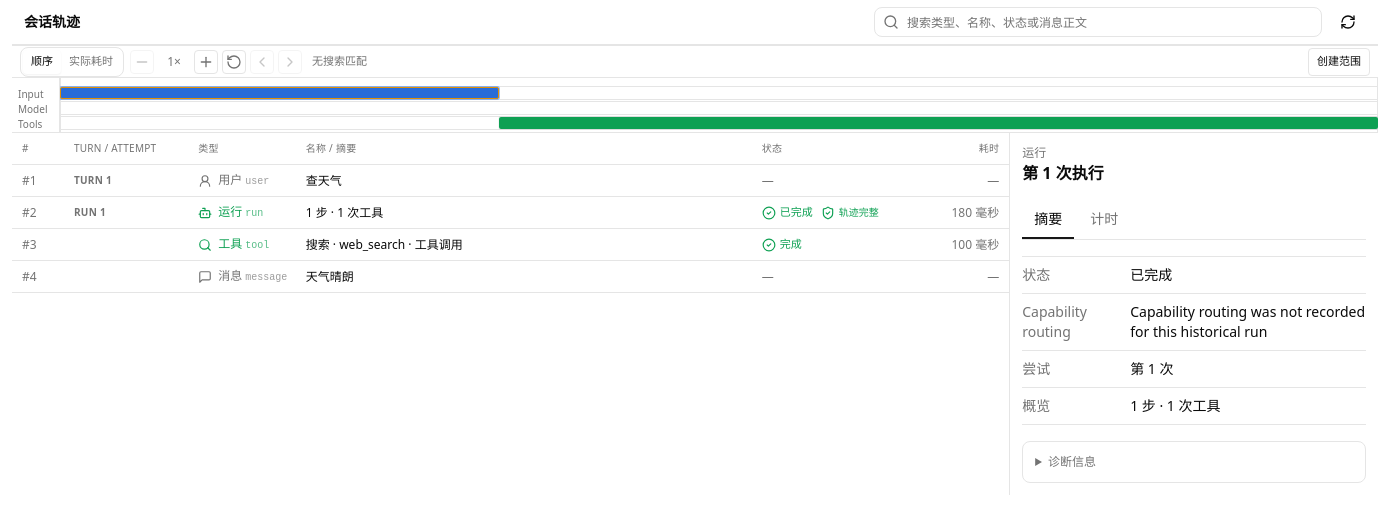
it: TrajectoryTabView › 点击 Turn 级用户节点只更新详情，不卸载当前 Run 快照
Step 1. Click the option "#1 Turn 1 用户 user 查天气 — —" → (93, 180), box [12,165,1009,197]
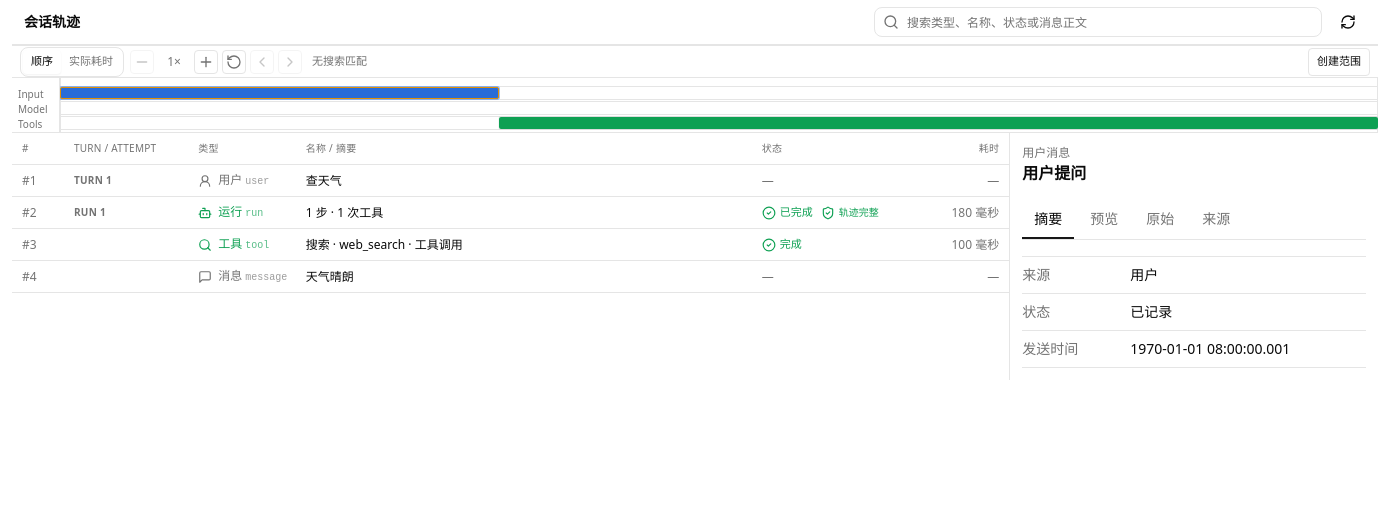
Expected: the option "#3 工具 tool 搜索 · web_search · 工具调用 完成 100 毫秒" is shown, [12,229,1009,261]
Result: the heading "用户提问" is shown at [1022,162,1086,184]
